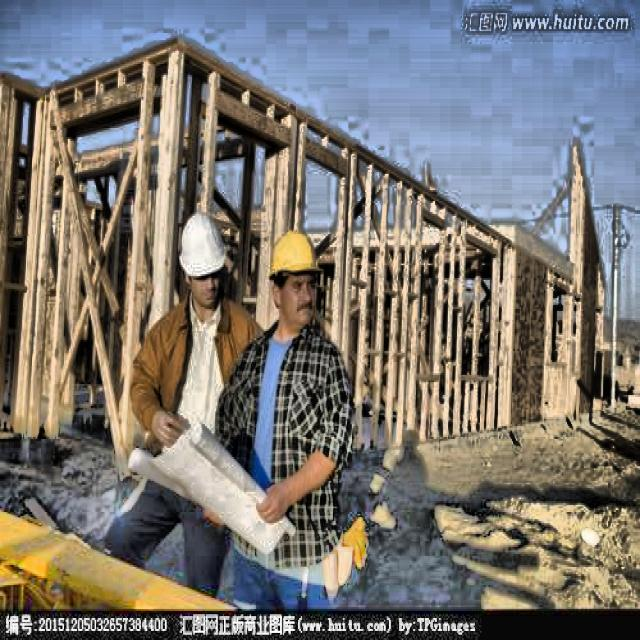helmet: (259, 221, 329, 329), (173, 201, 230, 309)
